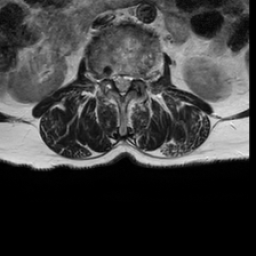CCS_normal: (119, 67, 125, 102)
LFS_stenosis: (133, 69, 143, 90)
LLS_normal: (125, 68, 133, 93)
RFS_severe_stenosis: (104, 66, 111, 90)
RLS_stenosis: (111, 68, 119, 90)
